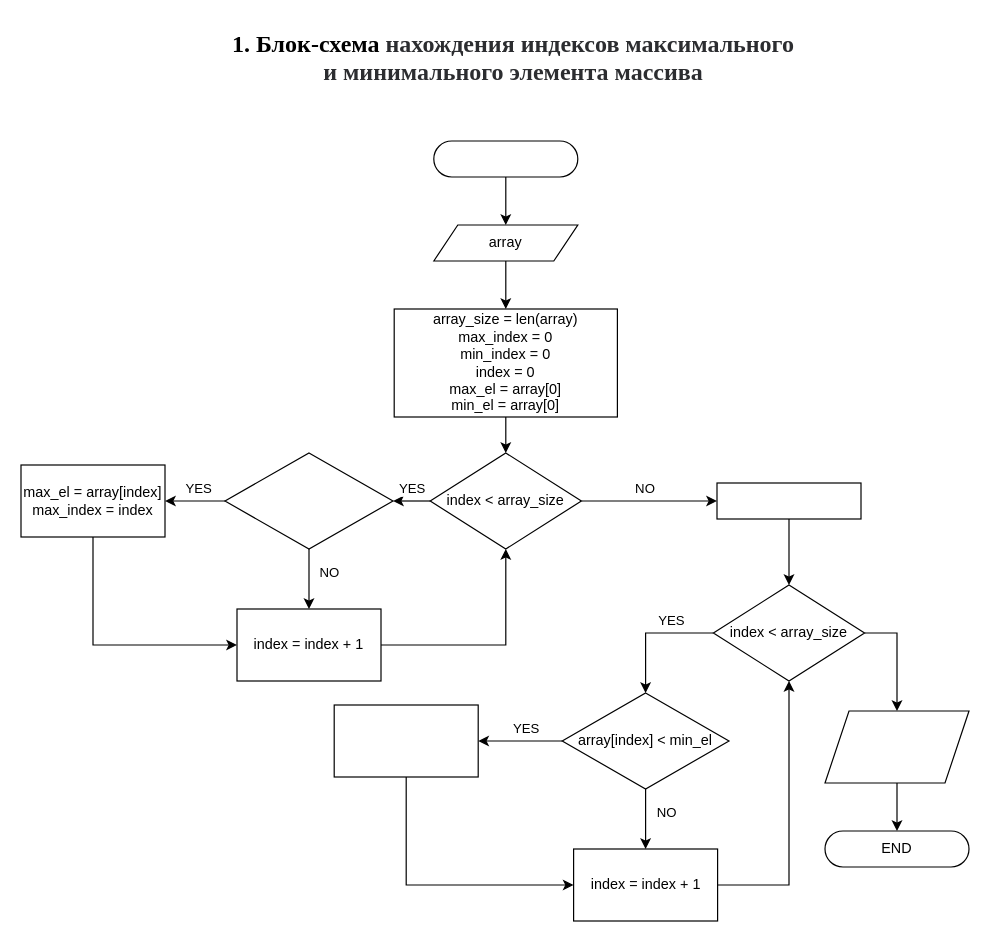
The diagram is 990 pixels wide and 942 high, and some of its shapes have lost their labels. Here are the shapes that lost their labels. From the top down, the centre of each, then its label:
At (505,158): "START".
At (308,500): "array[index] > max_el".
At (788,500): "index = 0".
At (405,740): "min_el = array[index] min_index = index".
At (896,746): "max_index min_index".
